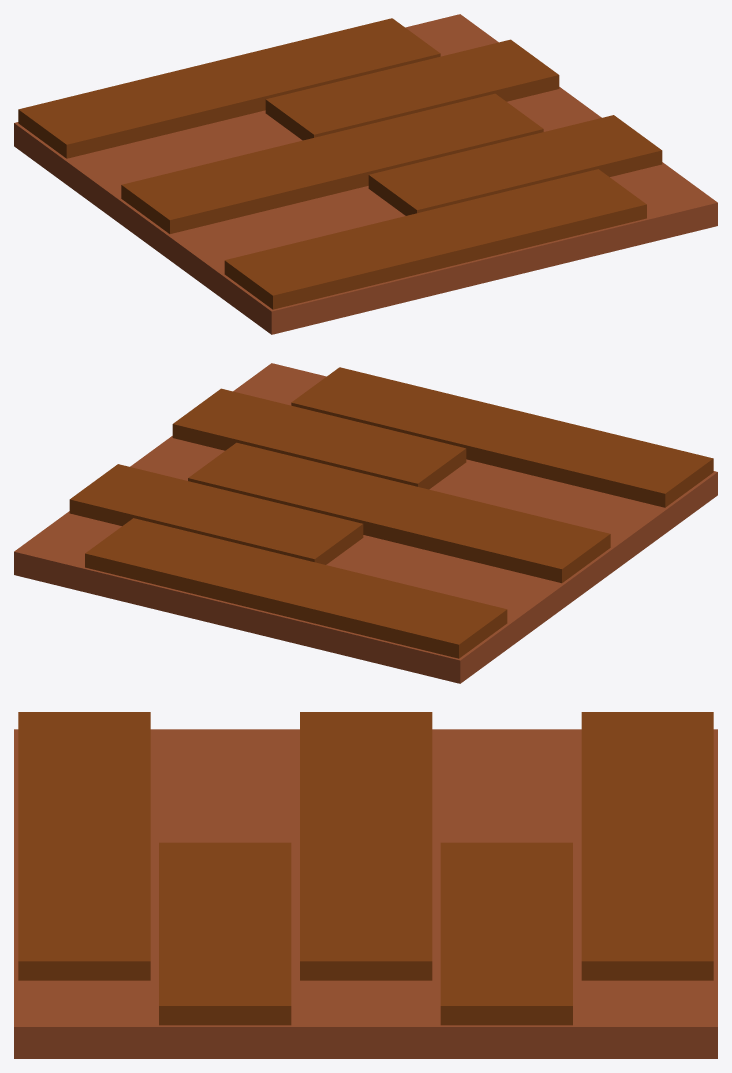
File: Prop_Tile_Terrain_Dungeon_Timber_Panel_10.FBX
3 renders of one model, top to bottom at view 1: azimuth 30°, elevation 25°; view 2: azimuth 150°, elevation 25°; view 3: azimuth 270°, elevation 25°, orthographic. The views are drawn at different scales.
Parts seen in each view (by area): view 1: Prop_Tile_Terrain_Dungeon_Timber_Panel_10; view 2: Prop_Tile_Terrain_Dungeon_Timber_Panel_10; view 3: Prop_Tile_Terrain_Dungeon_Timber_Panel_10.
Boxes of the visible parts, left/top/right/bottom form: Prop_Tile_Terrain_Dungeon_Timber_Panel_10: left=14, top=14, right=717, bottom=334; Prop_Tile_Terrain_Dungeon_Timber_Panel_10: left=14, top=363, right=717, bottom=683; Prop_Tile_Terrain_Dungeon_Timber_Panel_10: left=14, top=712, right=717, bottom=1058.
Size of the model in its own units: 3000 by 240 by 3000.
